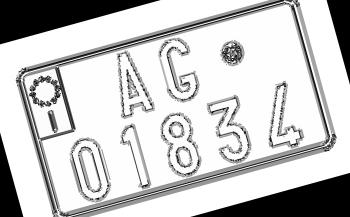plate: (25, 2, 332, 217)
